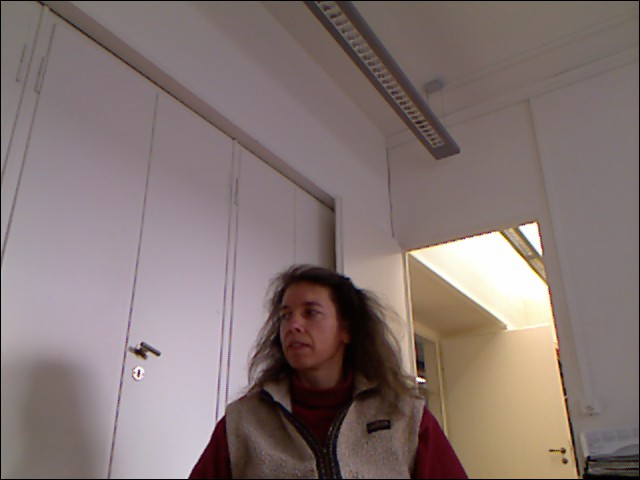deflection: (227, 269, 437, 479)
